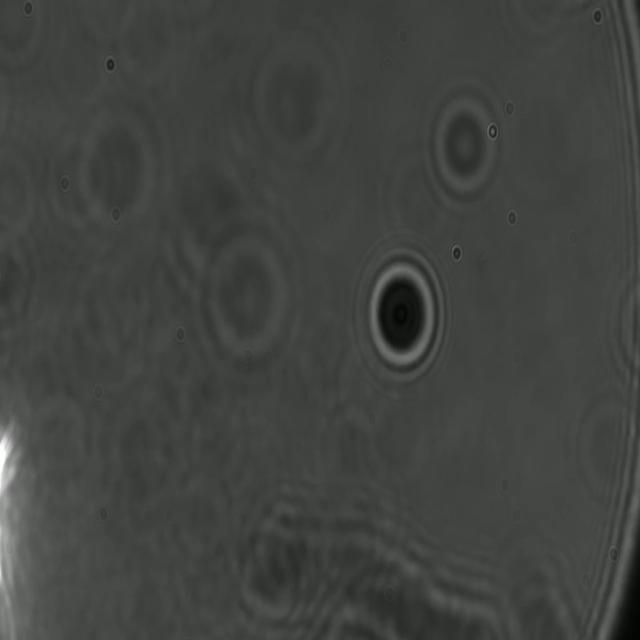DCELL: (362, 244, 448, 386)
